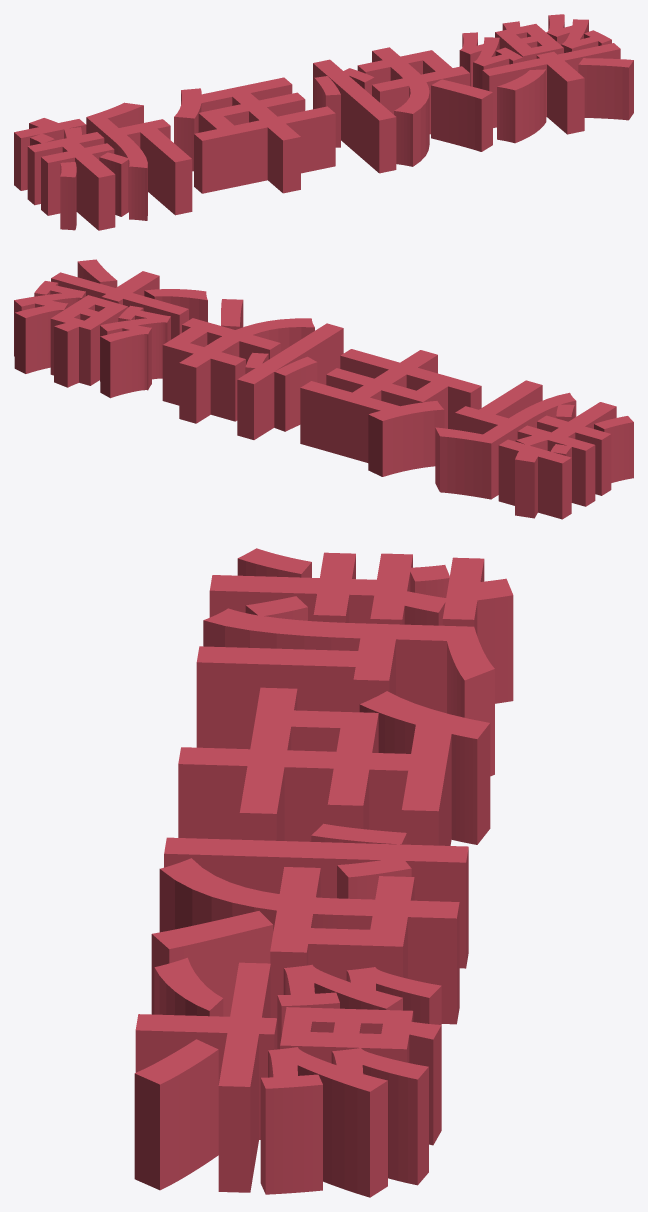
File: 新年快樂.glb
3 renders of one model, top to bottom at view 1: azimuth 30°, elevation 25°; view 2: azimuth 150°, elevation 25°; view 3: azimuth 270°, elevation 25°, orthographic. The views are drawn at different scales.
Visible parts, largest first — view 1: Mesh_Mesh_head_geo.001_lambert2SG.001; view 2: Mesh_Mesh_head_geo.001_lambert2SG.001; view 3: Mesh_Mesh_head_geo.001_lambert2SG.001.
Boxes of the visible parts, <box> form: Mesh_Mesh_head_geo.001_lambert2SG.001: <box>14,14,633,230</box>; Mesh_Mesh_head_geo.001_lambert2SG.001: <box>14,259,633,519</box>; Mesh_Mesh_head_geo.001_lambert2SG.001: <box>134,548,513,1197</box>.
Size of the model in its own units: 0.1101 by 0.01 by 0.0324.
